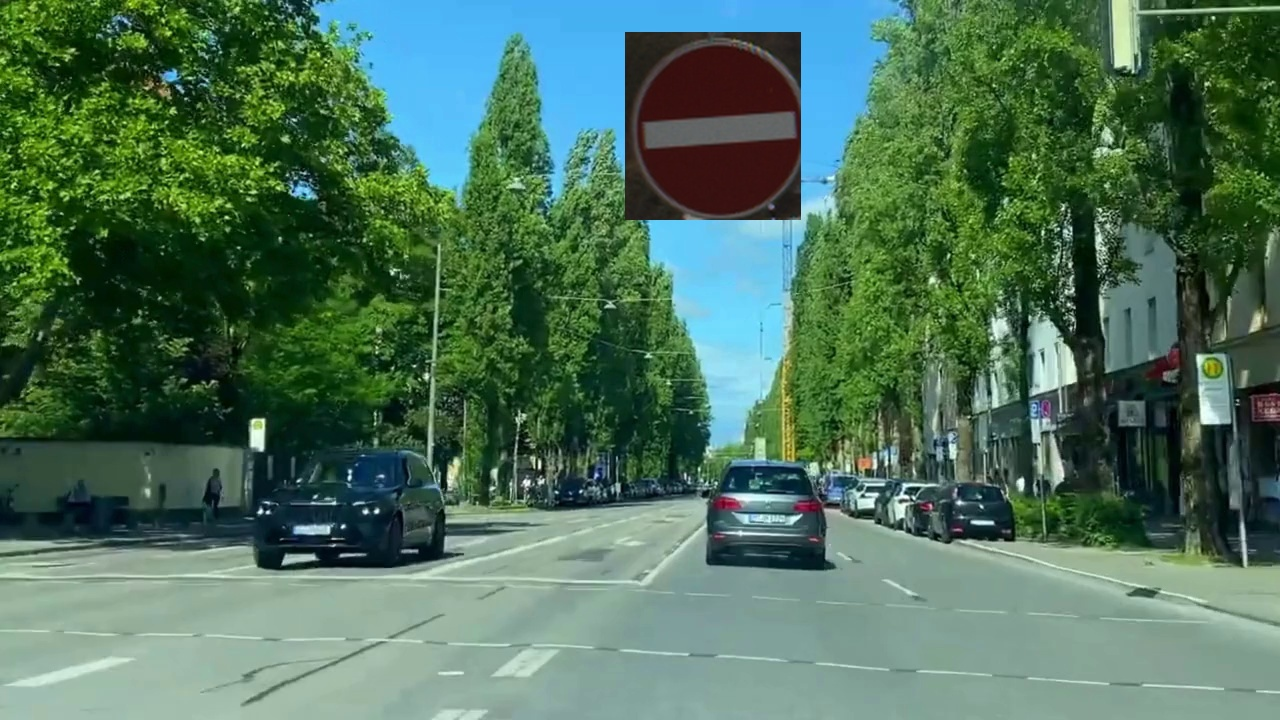No entry: (625, 32, 801, 220)
